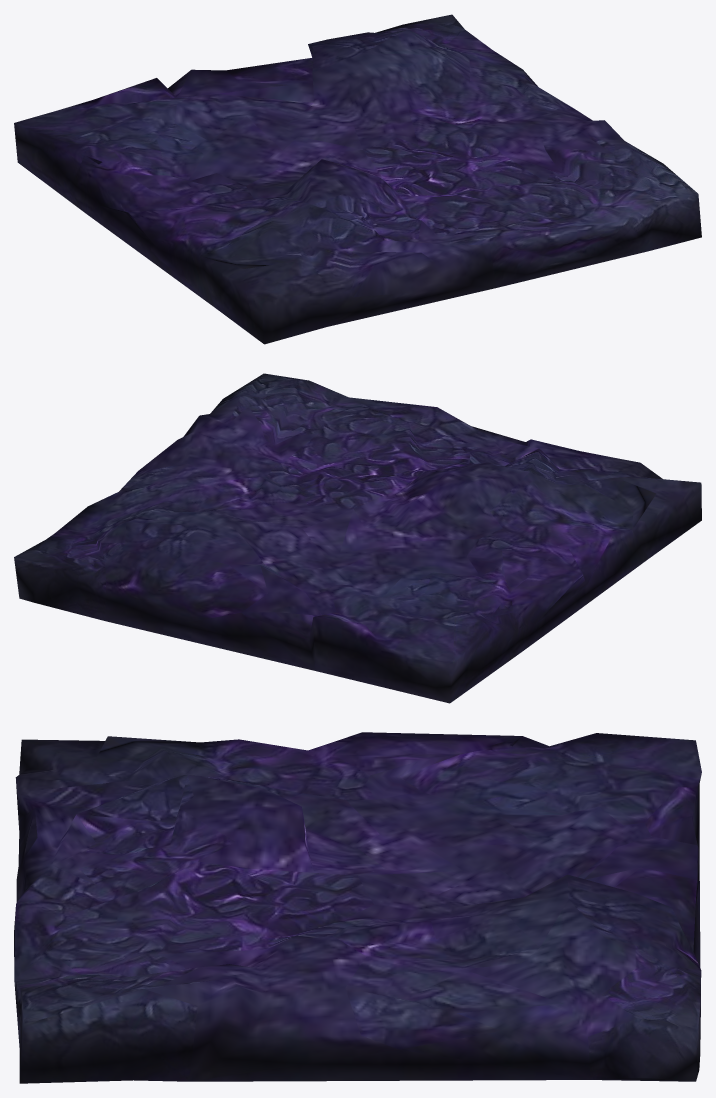
The model's file is sol_dalle_02.glb.
The picture shows the model from 3 angles, top to bottom: view 1: azimuth 30°, elevation 25°; view 2: azimuth 150°, elevation 25°; view 3: azimuth 270°, elevation 25°; orthographic projection. The views are drawn at different scales.
Visible parts, largest first — view 1: tripo_node_affce22d-f314-4deb-8122-e3ffd032ddea; view 2: tripo_node_affce22d-f314-4deb-8122-e3ffd032ddea; view 3: tripo_node_affce22d-f314-4deb-8122-e3ffd032ddea.
Part boxes in pixels (box(x1,y1,x2,y2)): tripo_node_affce22d-f314-4deb-8122-e3ffd032ddea: box(14, 14, 701, 344); tripo_node_affce22d-f314-4deb-8122-e3ffd032ddea: box(14, 373, 701, 703); tripo_node_affce22d-f314-4deb-8122-e3ffd032ddea: box(14, 732, 701, 1083).
Size of the model in its own units: 1 by 0.1532 by 0.9814.
1 material, 1 textured.
